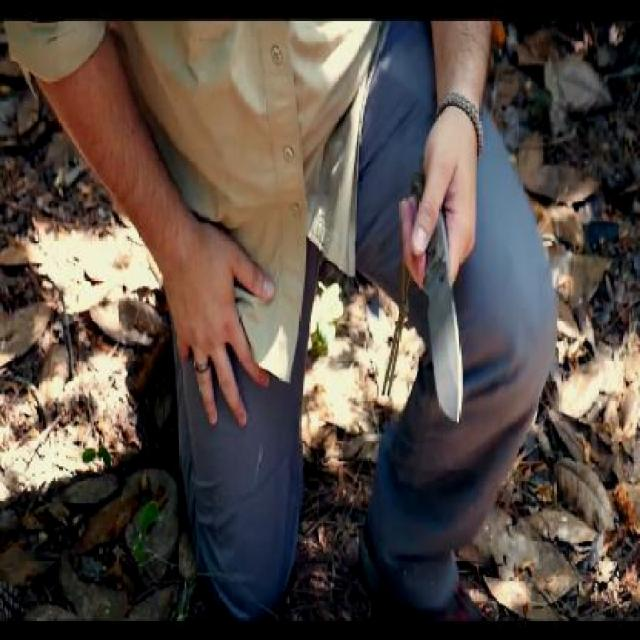knife: (394, 193, 478, 424)
